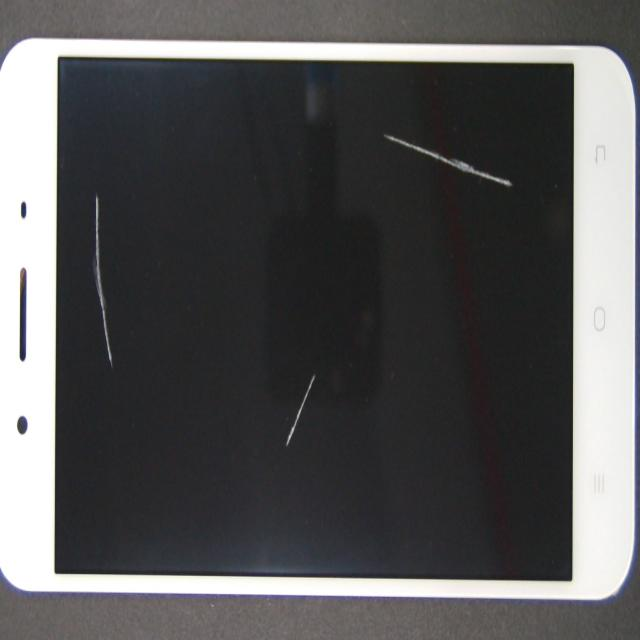Scratches: (365, 123, 532, 196), (87, 183, 143, 376), (275, 368, 331, 453)
